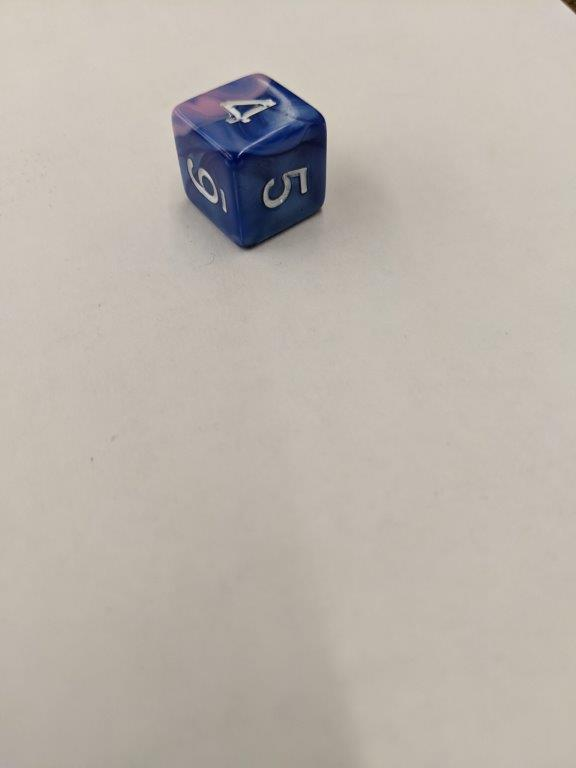d6-4: (170, 73, 327, 251)
